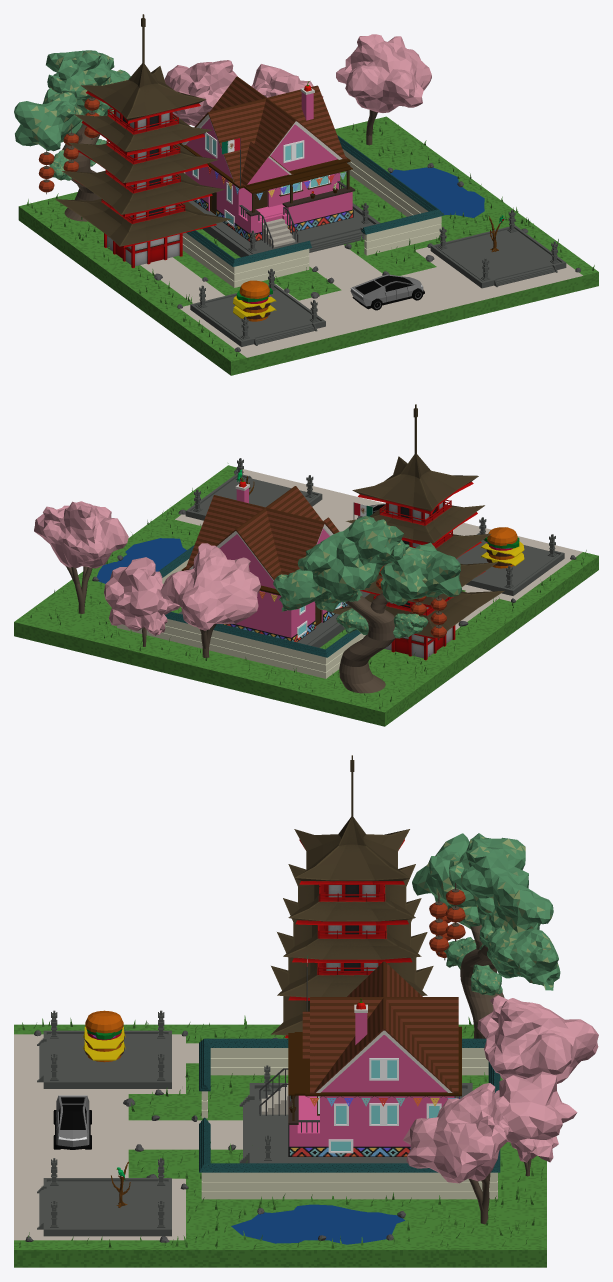
3 views of the same model, one above another, from view 1: azimuth 30°, elevation 25°; view 2: azimuth 150°, elevation 25°; view 3: azimuth 270°, elevation 25° (orthographic). The views are drawn at different scales.
Visible parts, largest first — view 1: Cube.005, Cube.1005, VEHICLES_CYBERTRUCK, OBJRANDOM_HAMBURGER; view 2: Cube.005, Cube.1005, OBJRANDOM_HAMBURGER; view 3: Cube.005, Cube.1005, VEHICLES_CYBERTRUCK, OBJRANDOM_HAMBURGER.
Boxes of the visible parts, x1,y1,x2,y2 form: Cube.005: (14, 14, 598, 375); Cube.1005: (179, 76, 355, 248); VEHICLES_CYBERTRUCK: (350, 274, 424, 310); OBJRANDOM_HAMBURGER: (233, 280, 276, 321); Cube.005: (14, 404, 598, 726); Cube.1005: (181, 476, 372, 642); OBJRANDOM_HAMBURGER: (480, 527, 524, 568); Cube.005: (14, 755, 598, 1267); Cube.1005: (259, 956, 461, 1156); VEHICLES_CYBERTRUCK: (53, 1095, 91, 1149); OBJRANDOM_HAMBURGER: (83, 1010, 125, 1062).
Size of the model in its own units: 4528 by 2668 by 4389.
79 materials, 7 textured.
